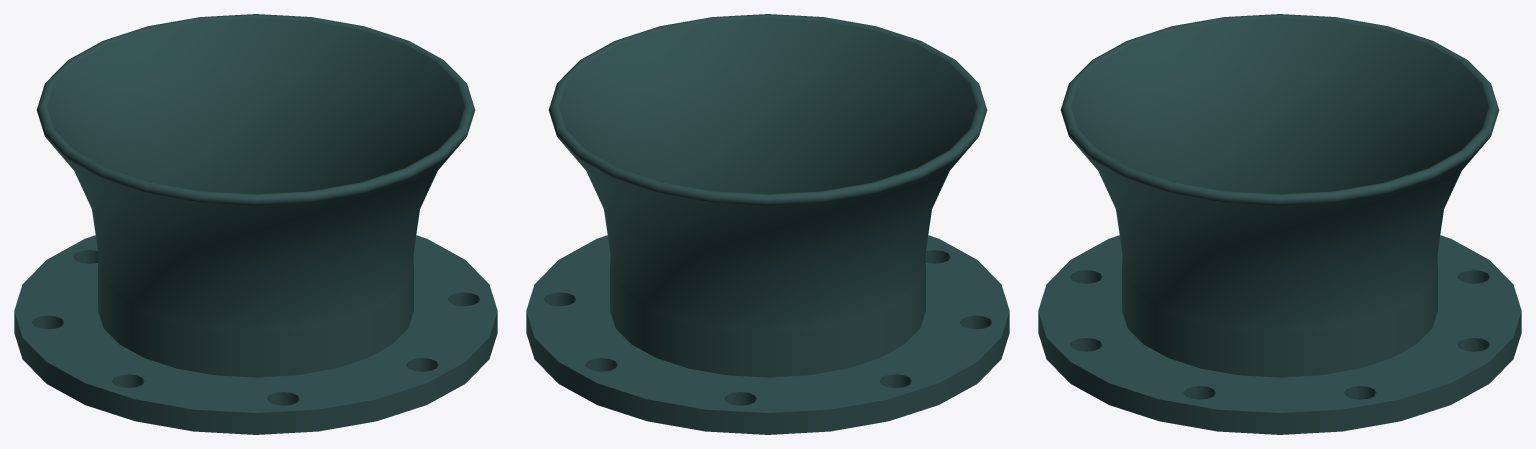
The model's file is BELLM.glb.
3 renders of one model, left to right at view 1: azimuth 30°, elevation 25°; view 2: azimuth 150°, elevation 25°; view 3: azimuth 270°, elevation 25°, orthographic.
Visible parts, largest first — view 1: RFUELM20FL10EET(400); view 2: RFUELM20FL10EET(400); view 3: RFUELM20FL10EET(400).
Boxes of the visible parts, x1,y1,x2,y2 form: RFUELM20FL10EET(400): (14, 14, 497, 434); RFUELM20FL10EET(400): (526, 14, 1009, 434); RFUELM20FL10EET(400): (1038, 14, 1521, 434).
Size of the model in its own units: 0.34 by 0.18 by 0.34.
